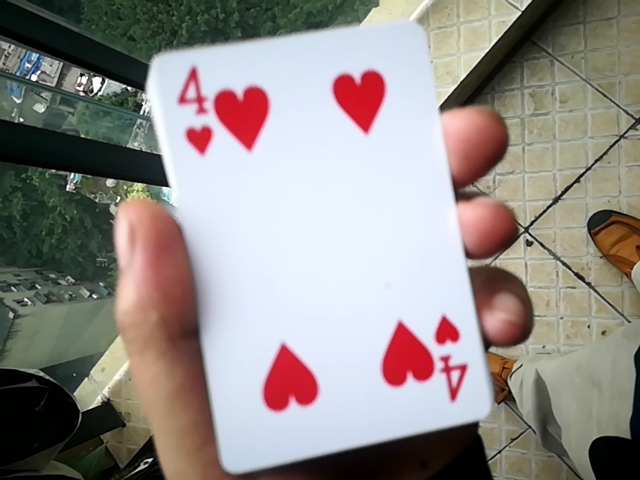hx 4: (129, 11, 489, 480)
